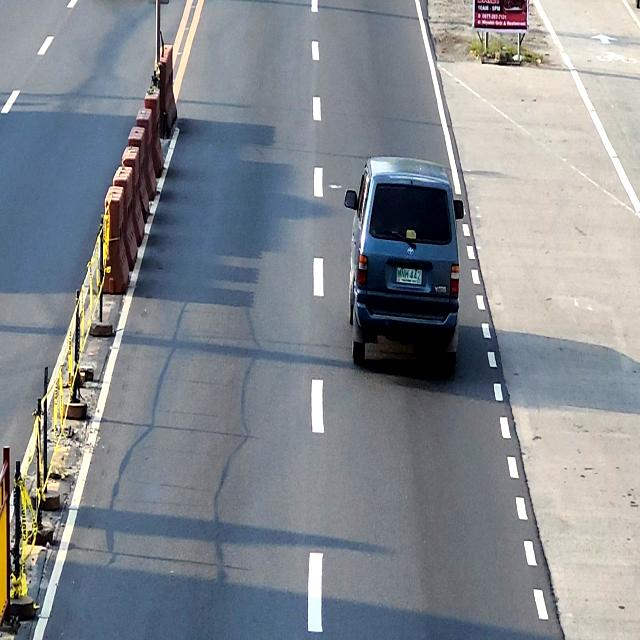Car: (346, 155, 464, 378)
License-Plate: (396, 267, 423, 285)
